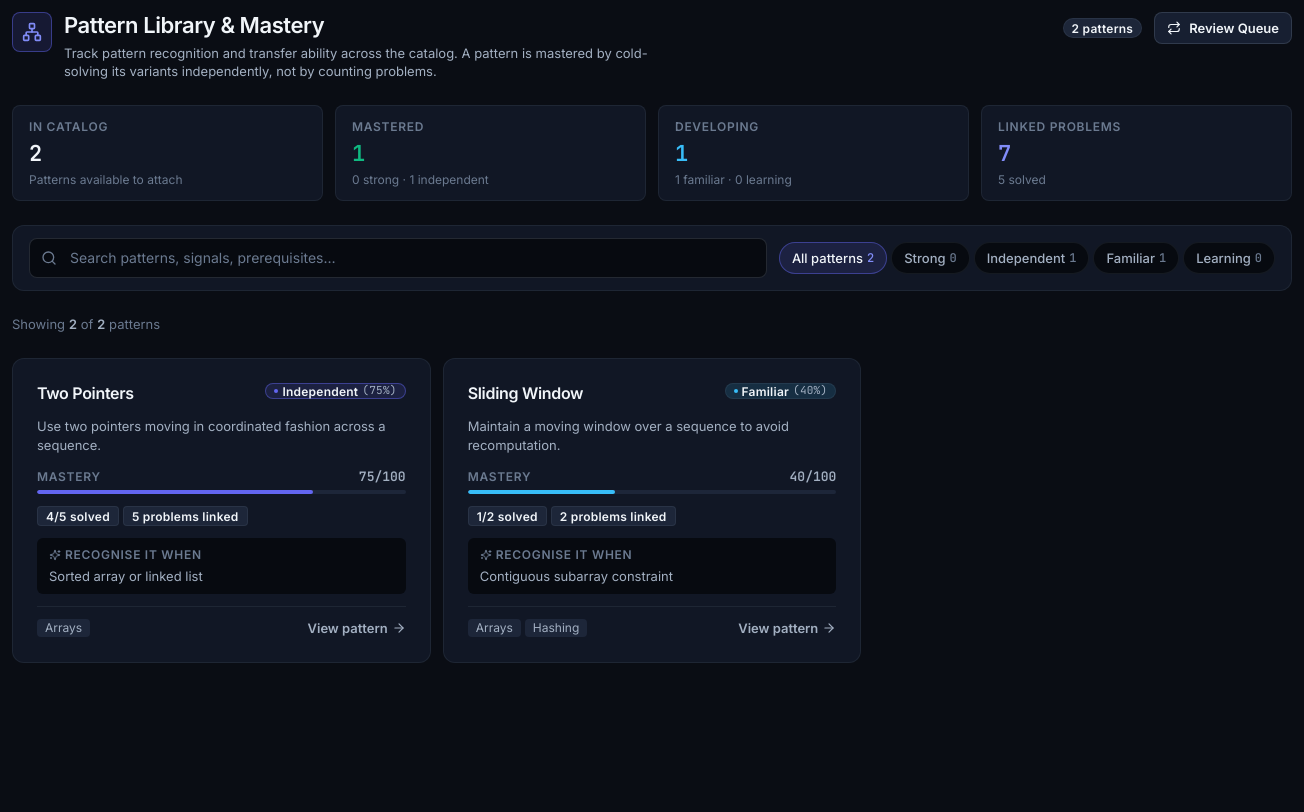
it: PatternsPage (Pattern Library redesign) › filters by mastery level while keeping catalog-wide counts on the pills
Expected: the heading "Two Pointers" is shown, x1=37 y1=383 x2=134 y2=403
Click the button "Independent 1" at (1032,258), box x1=974 y1=242 x2=1089 y2=274
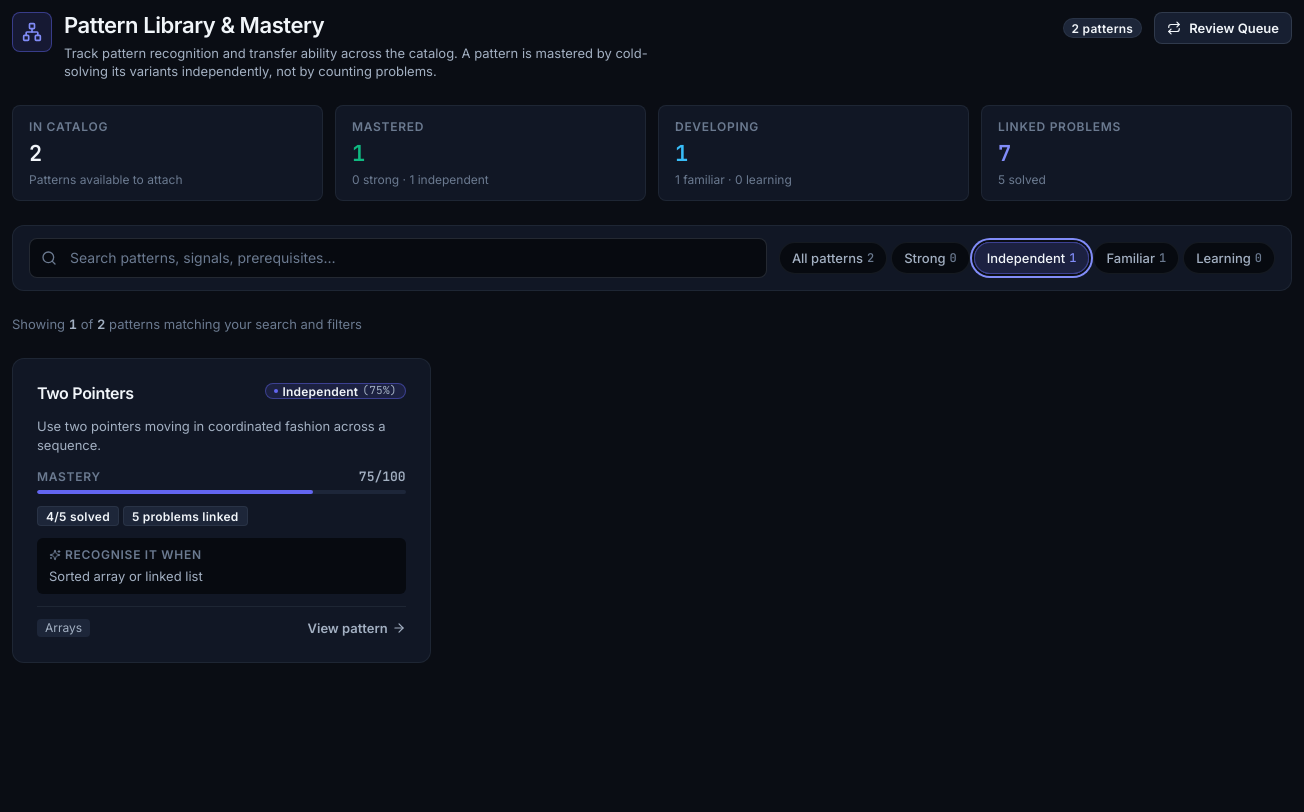
Expected: the heading "Two Pointers" is shown, x1=37 y1=383 x2=134 y2=403
Now the link "Sliding Window" is gone
Now the text "Showing 1 of 2 patterns matching your search and filters" is shown, box x1=12 y1=316 x2=362 y2=332
